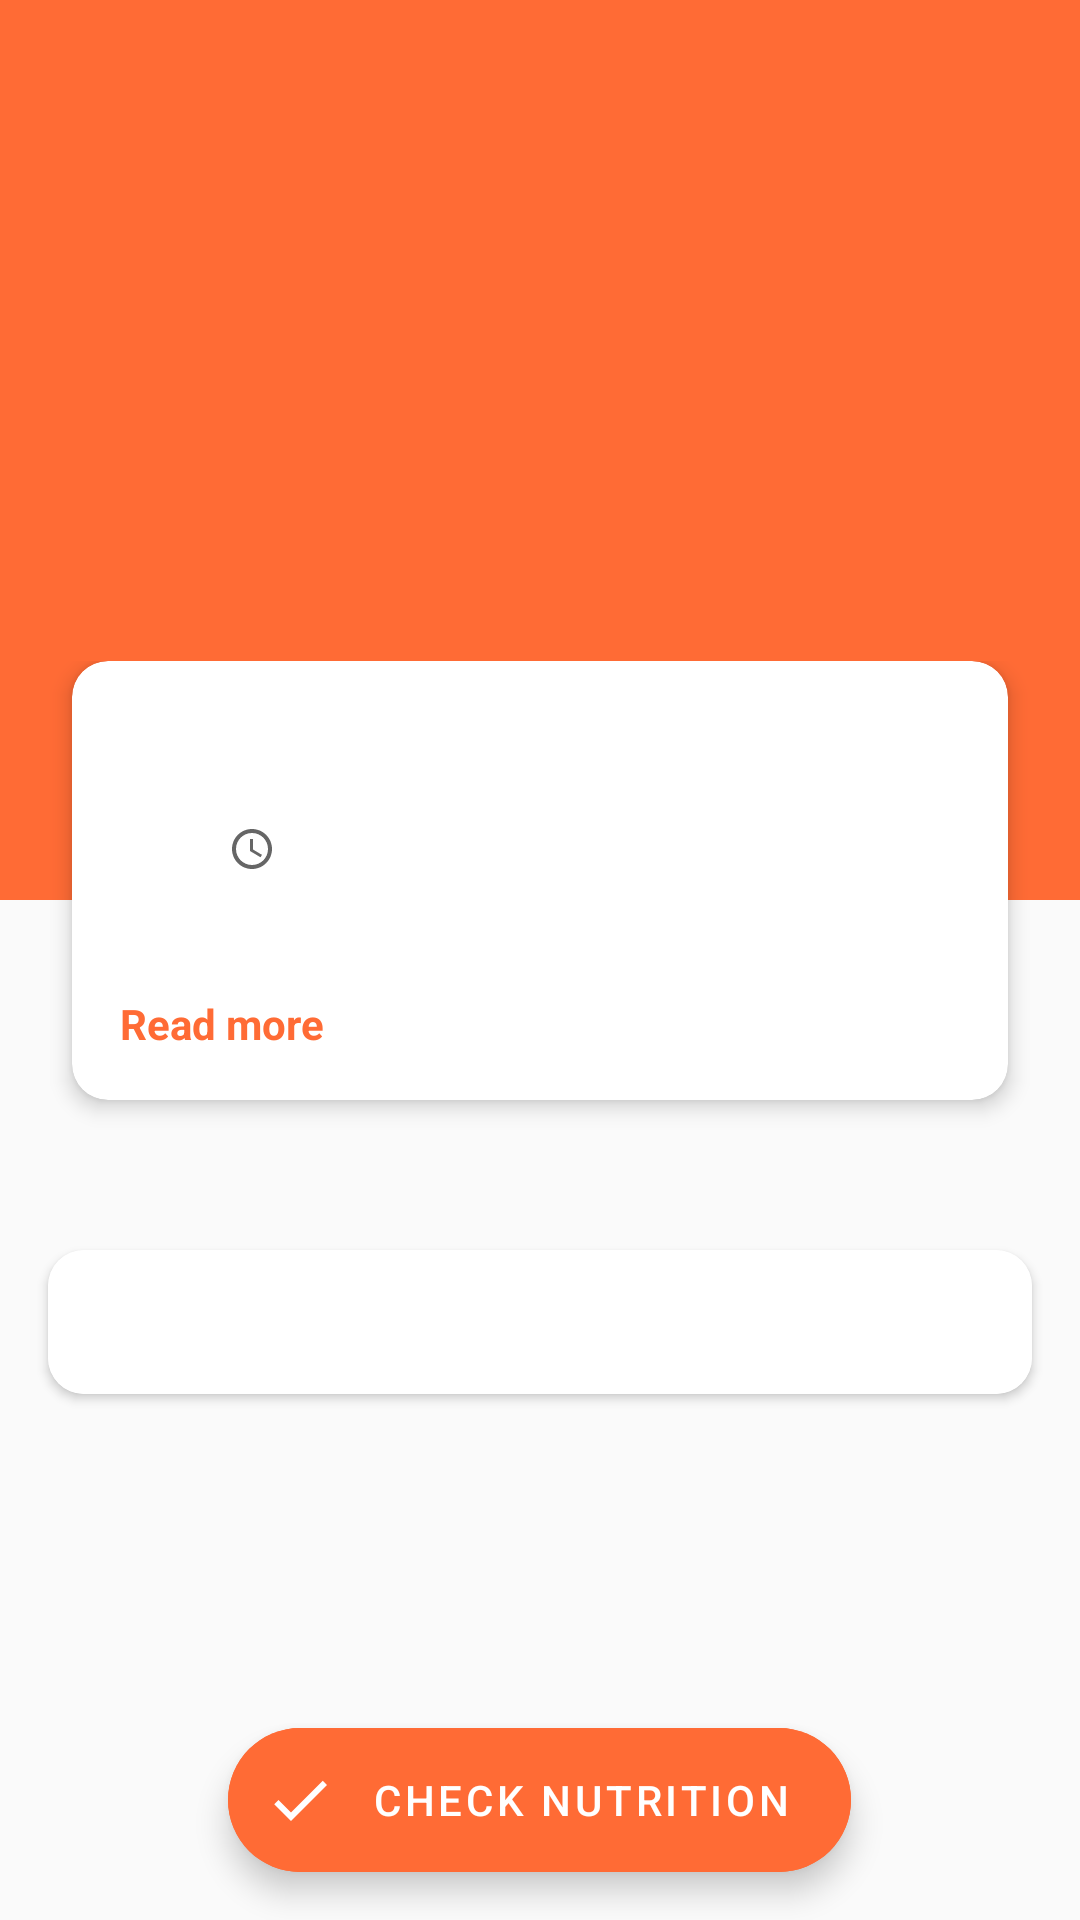

Icon bounding boxes for this 1080 x 1920 phone screenshot, format BBox(x1, y1, x2, y2):
clock: BBox(232, 829, 272, 869)
